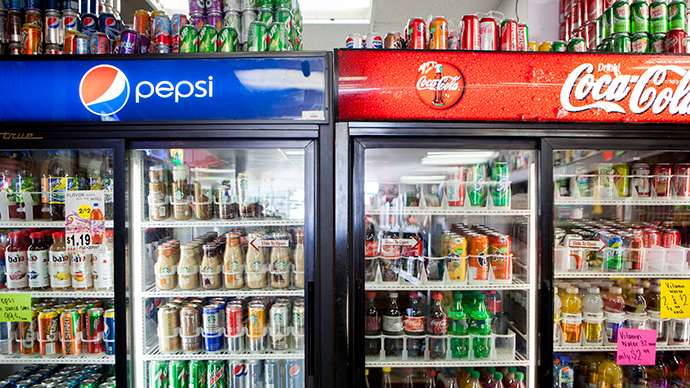pepsi: (81, 64, 129, 111), (100, 12, 116, 28), (45, 12, 59, 28), (80, 15, 94, 28), (230, 363, 243, 376), (65, 12, 74, 26)
